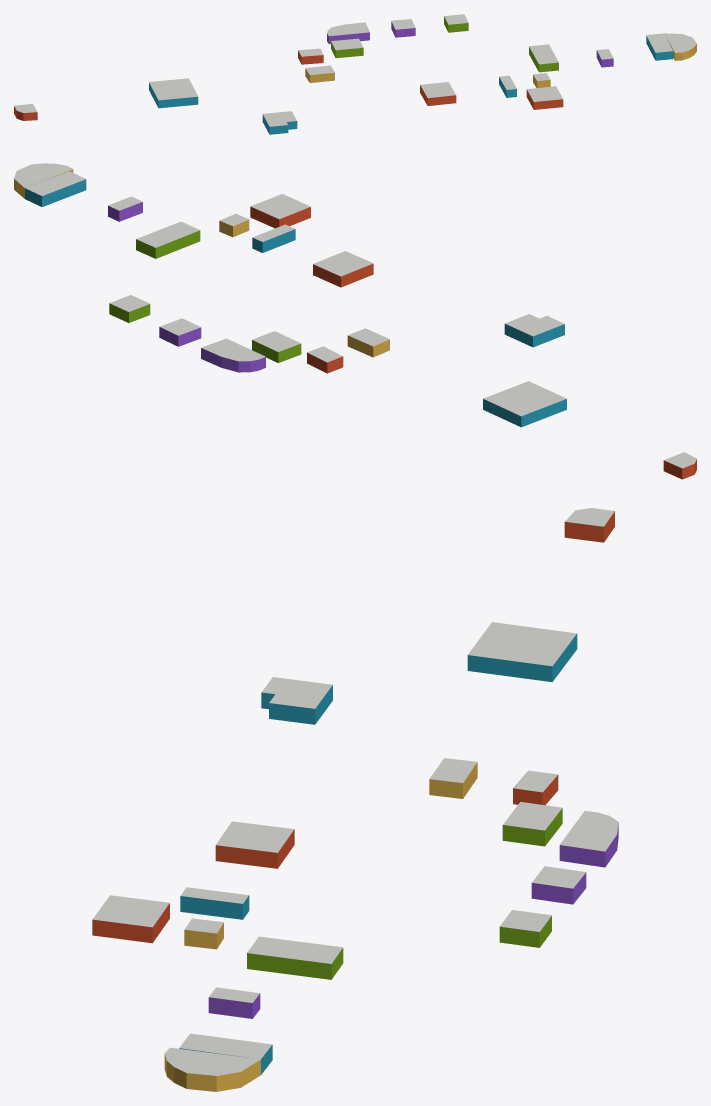
Rendered from sn_murals.glb.
The picture shows the model from 3 angles, top to bottom: view 1: azimuth 30°, elevation 25°; view 2: azimuth 150°, elevation 25°; view 3: azimuth 270°, elevation 25°; orthographic projection. The views are drawn at different scales.
Parts seen in each view (by area): view 1: sn_murals_lod0; view 2: sn_murals_lod0; view 3: sn_murals_lod0.
Part boxes in pixels (x1,y1,x2,y2): sn_murals_lod0: [14, 14, 696, 134]; sn_murals_lod0: [14, 163, 696, 479]; sn_murals_lod0: [92, 508, 618, 1091].
Size of what is drawn, in the model's own units: 305 by 3.99 by 119.
